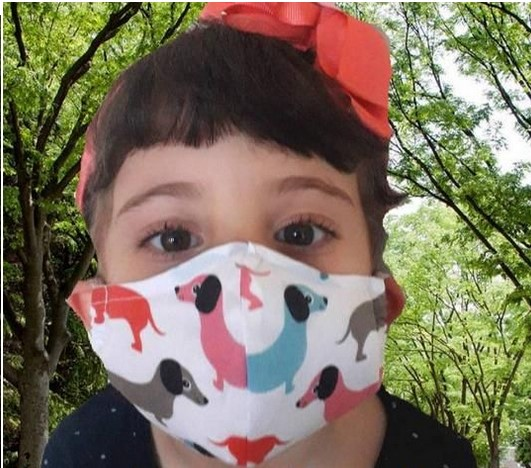face_with_mask: (82, 52, 411, 462)
